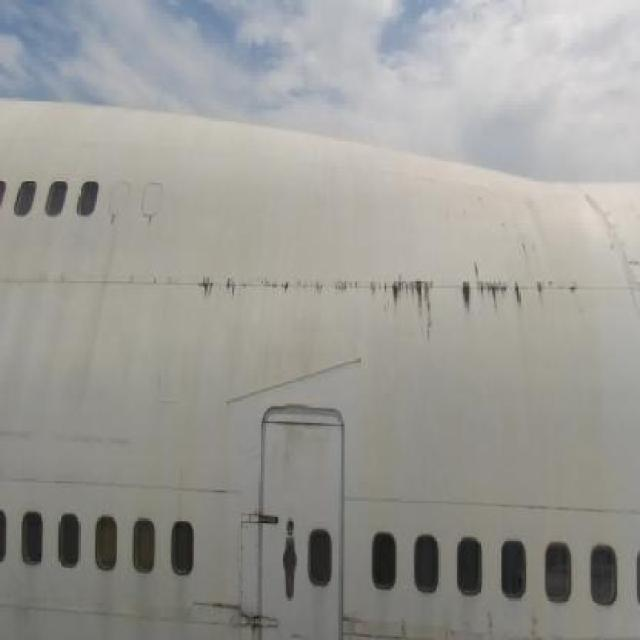Missing-Rivet: (236, 518, 247, 600)
Rust: (192, 267, 582, 341), (488, 193, 560, 281), (200, 597, 260, 640), (107, 212, 119, 228), (147, 214, 155, 234)
Scartch: (346, 598, 566, 640), (4, 413, 153, 472), (584, 191, 640, 302), (283, 425, 340, 486)
